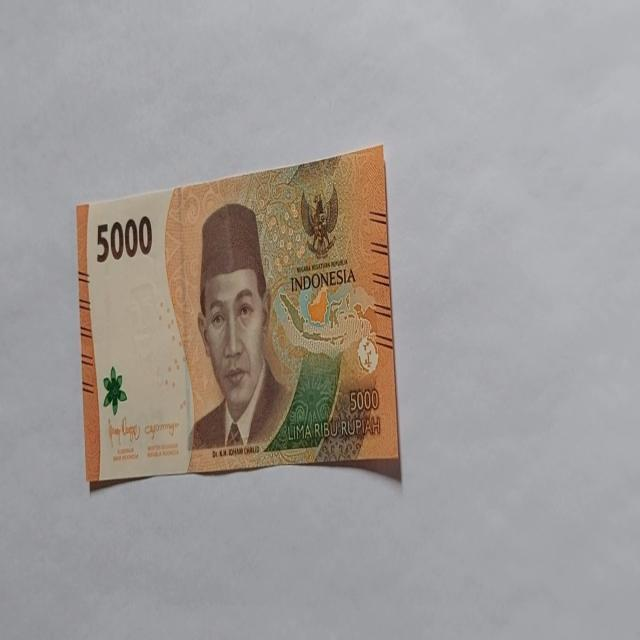lima ribu rupiah: (76, 144, 402, 491), (188, 202, 292, 454)
